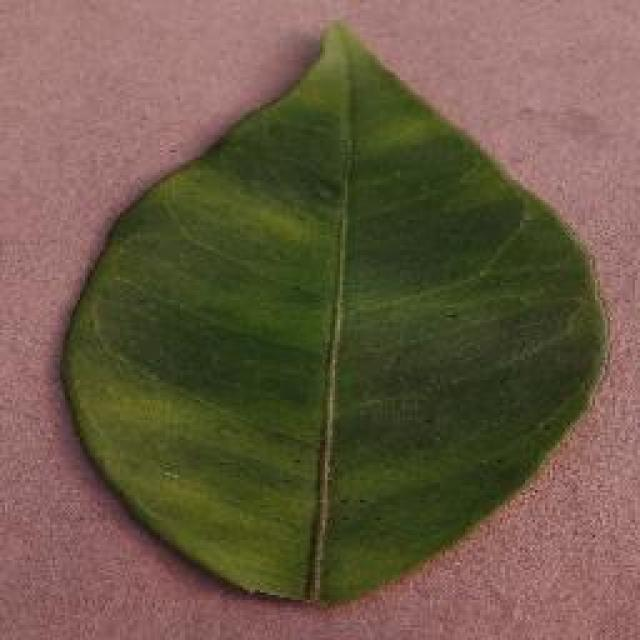Orange_Haunglongbing_Citrus_greening: (140, 110, 520, 509)
